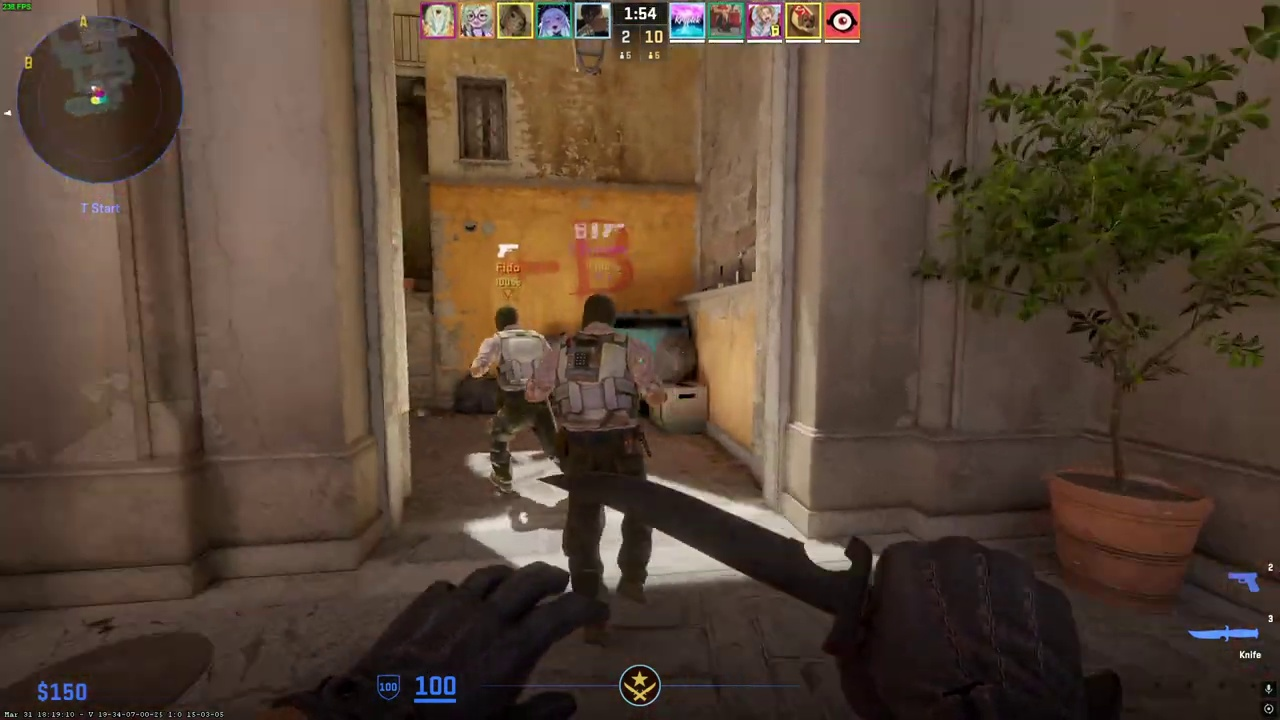Terrorist: (554, 293, 661, 636), (474, 304, 562, 494)
